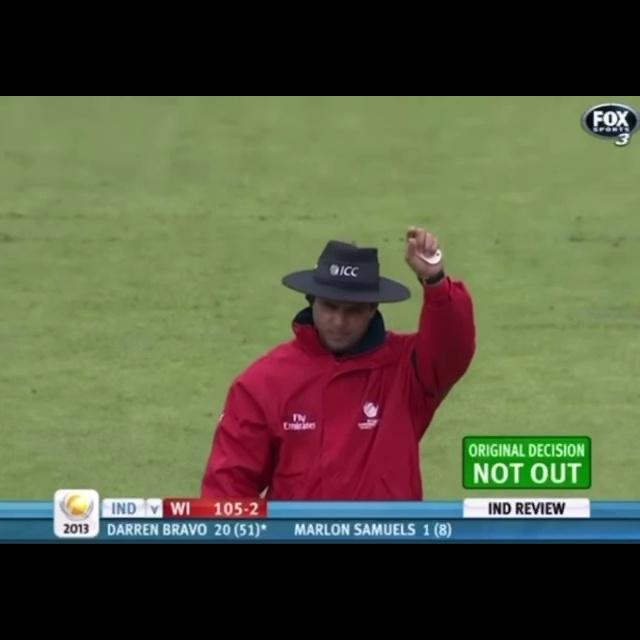umpire: (167, 177, 543, 437)
